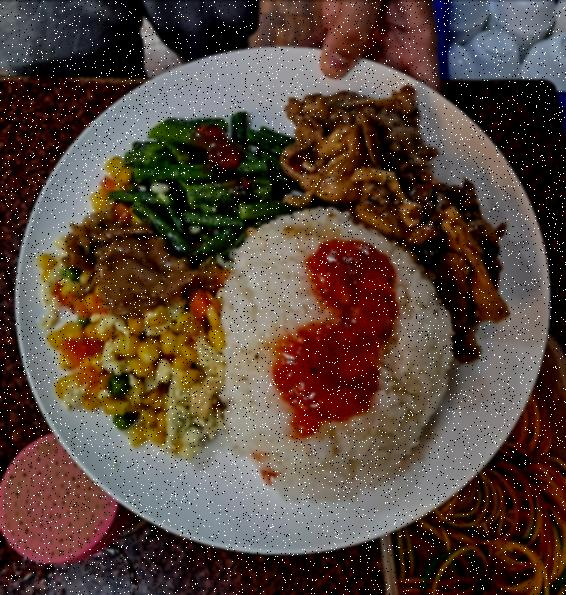plate: (16, 34, 560, 560)
sauteed pork: (280, 77, 502, 354)
side dish: (31, 169, 227, 462), (111, 109, 302, 254)
white rice: (216, 210, 448, 500)
